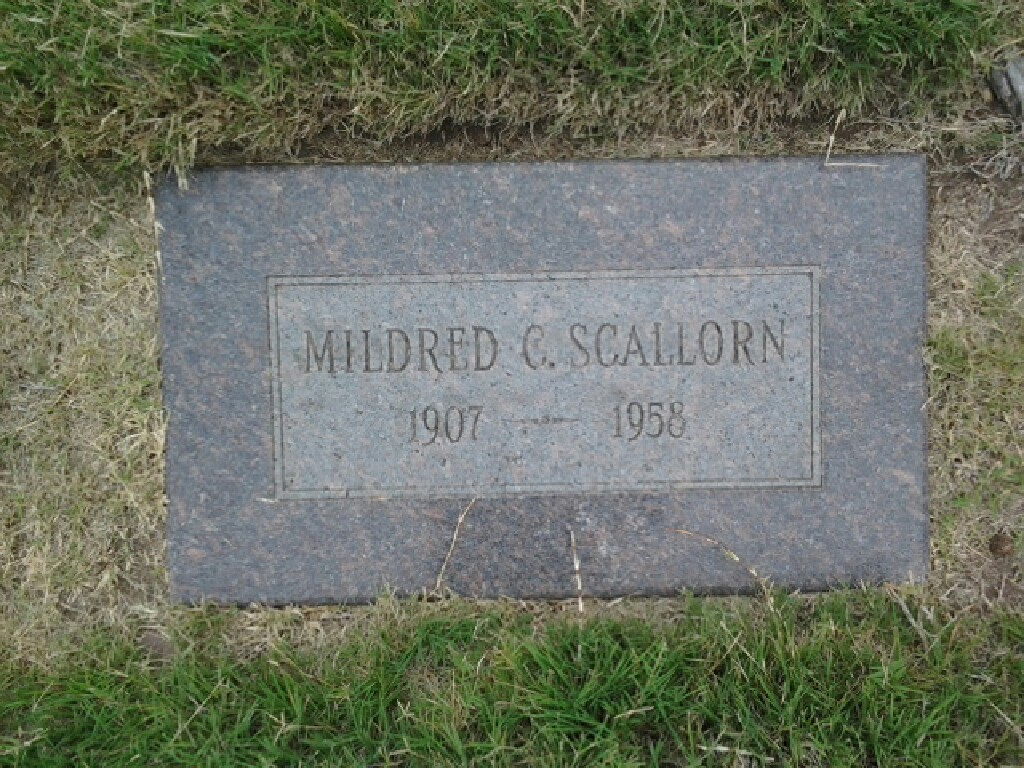flat: (133, 151, 934, 609)
